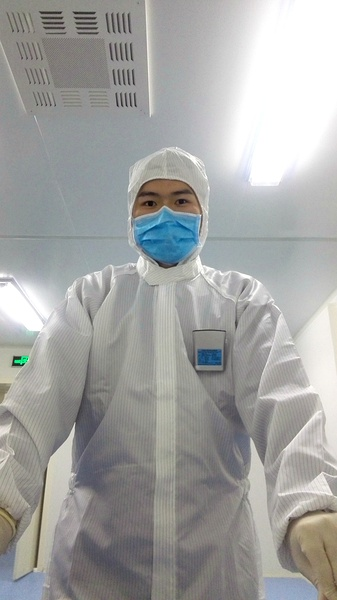face_mask: (130, 164, 202, 260)
